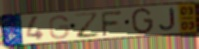4: (25, 15, 46, 43)
F: (100, 10, 123, 38)
G: (131, 7, 154, 35), (48, 14, 71, 40)
J: (157, 6, 177, 32)
Z: (73, 11, 101, 40)
